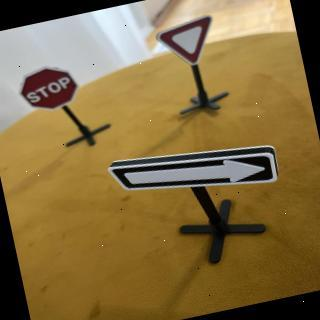sign_oneway_right: (106, 128, 283, 218)
sign_stop: (13, 58, 86, 119)
sign_yield: (153, 12, 224, 75)
